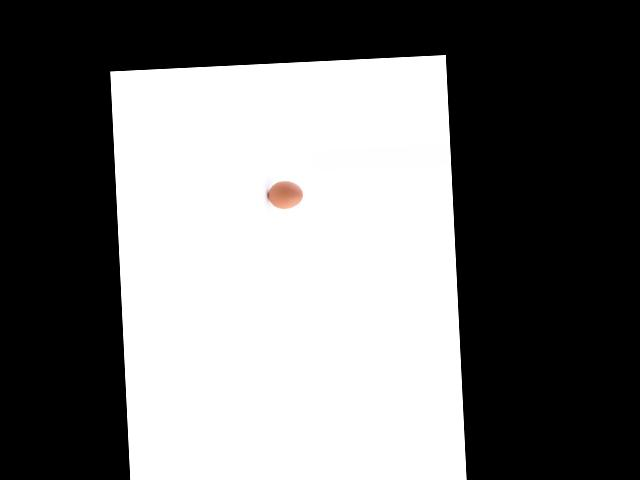egg: (267, 179, 303, 209)
